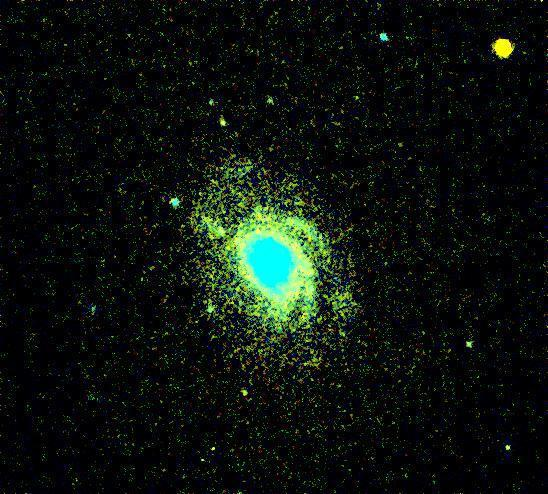star: (488, 35, 518, 65)
